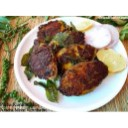seerfish: (58, 60, 109, 95), (29, 39, 57, 77), (59, 45, 102, 67), (38, 20, 68, 46), (52, 32, 86, 48)
